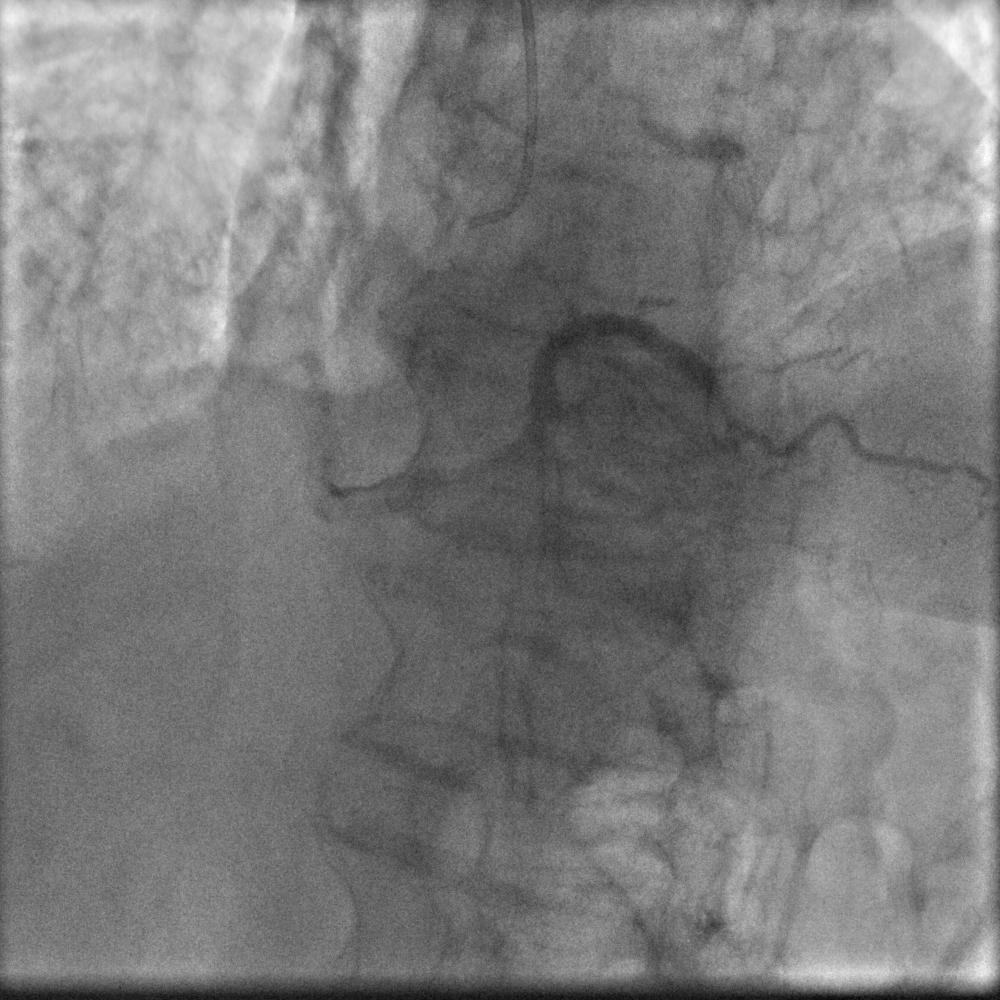Stenosis: (696, 352, 735, 447)
